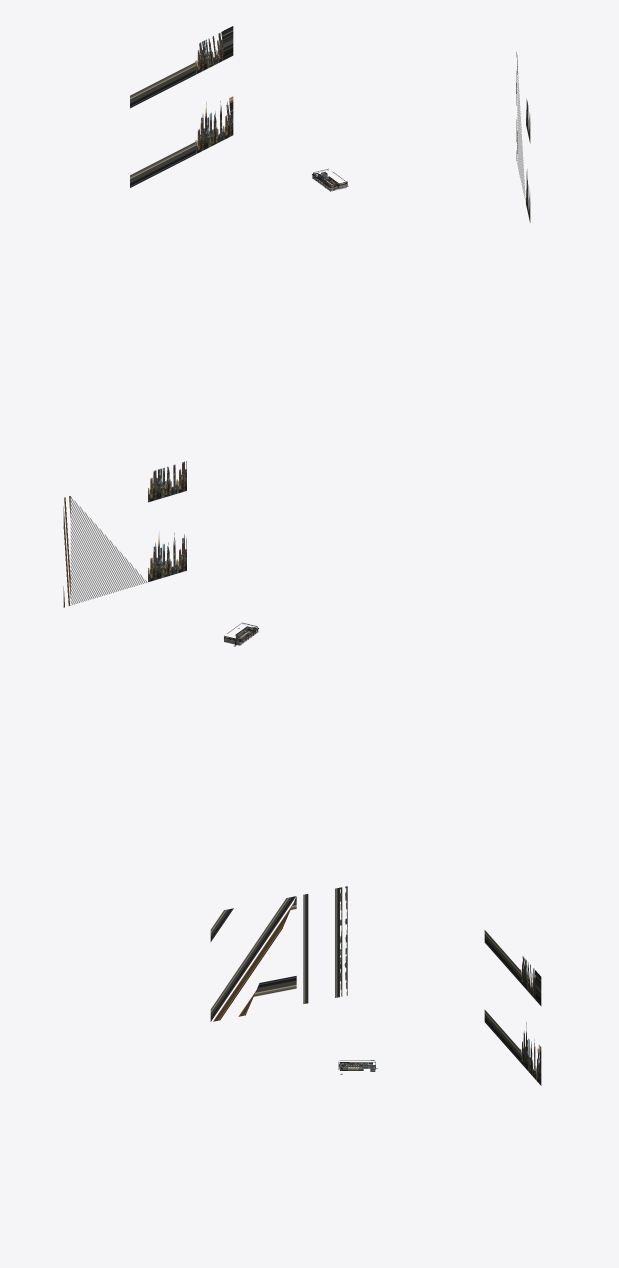
File: modern_diner_COMPRESSED.glb
3 views of the same model, one above another, from view 1: azimuth 30°, elevation 25°; view 2: azimuth 150°, elevation 25°; view 3: azimuth 270°, elevation 25° (orthographic).
Visible parts, largest first — view 1: Material2; view 2: Material2; view 3: Material2.
Boxes of the visible parts, x1,y1,x2,y2 form: Material2: (130, 26, 530, 222); Material2: (63, 461, 186, 607); Material2: (210, 886, 541, 1085).
Size of what is drawn, in the model's own units: 5.35 by 3 by 5.35.
54 materials, 52 textured.
